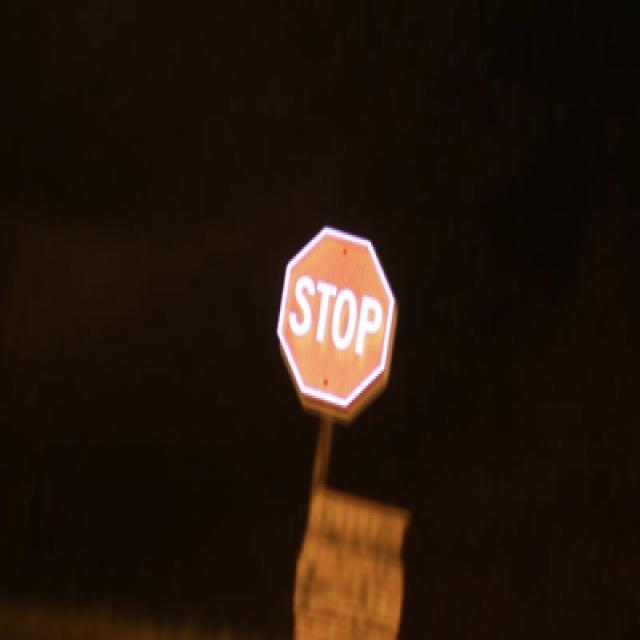stop: (276, 224, 397, 413)
